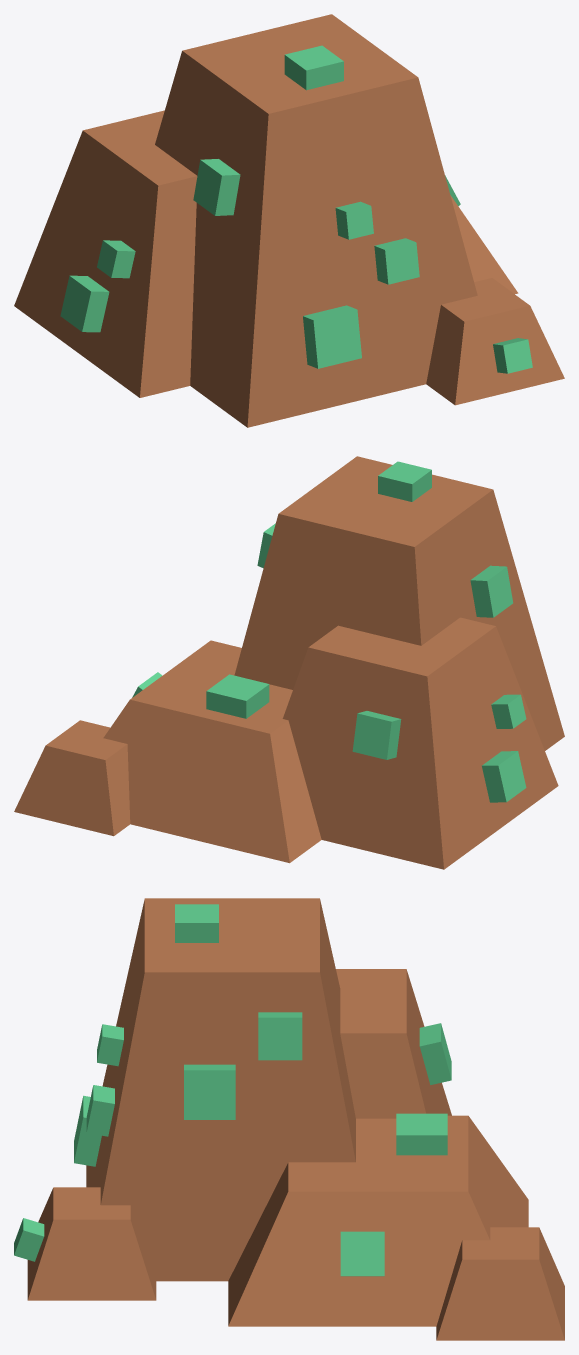
Rendered from rocksSmallOre.fbx.
The picture shows the model from 3 angles, top to bottom: view 1: azimuth 30°, elevation 25°; view 2: azimuth 150°, elevation 25°; view 3: azimuth 270°, elevation 25°; orthographic projection. The views are drawn at different scales.
Parts seen in each view (by area): view 1: rocksSmallOre; view 2: rocksSmallOre; view 3: rocksSmallOre.
Boxes of the visible parts, bbox=[...] form: rocksSmallOre: bbox=[14, 14, 564, 427]; rocksSmallOre: bbox=[14, 456, 564, 869]; rocksSmallOre: bbox=[14, 898, 564, 1340].
Bounding box in the file's own units: 6.86 × 4.57 × 7.5.
